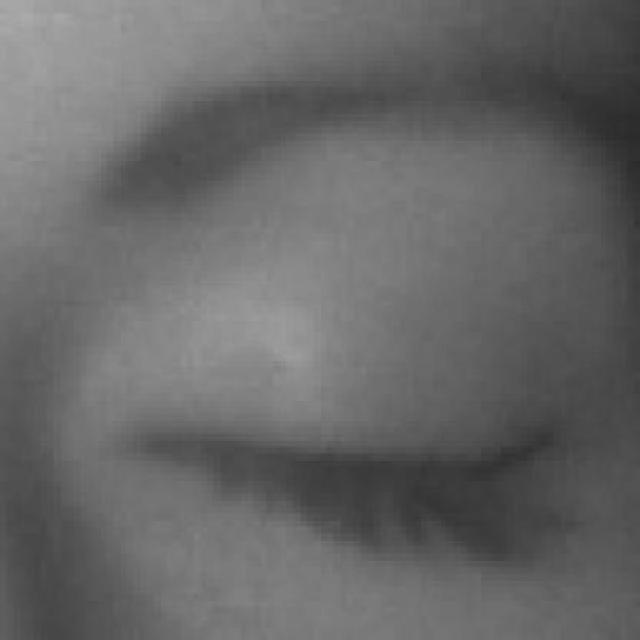drowsy: (119, 254, 573, 634)
